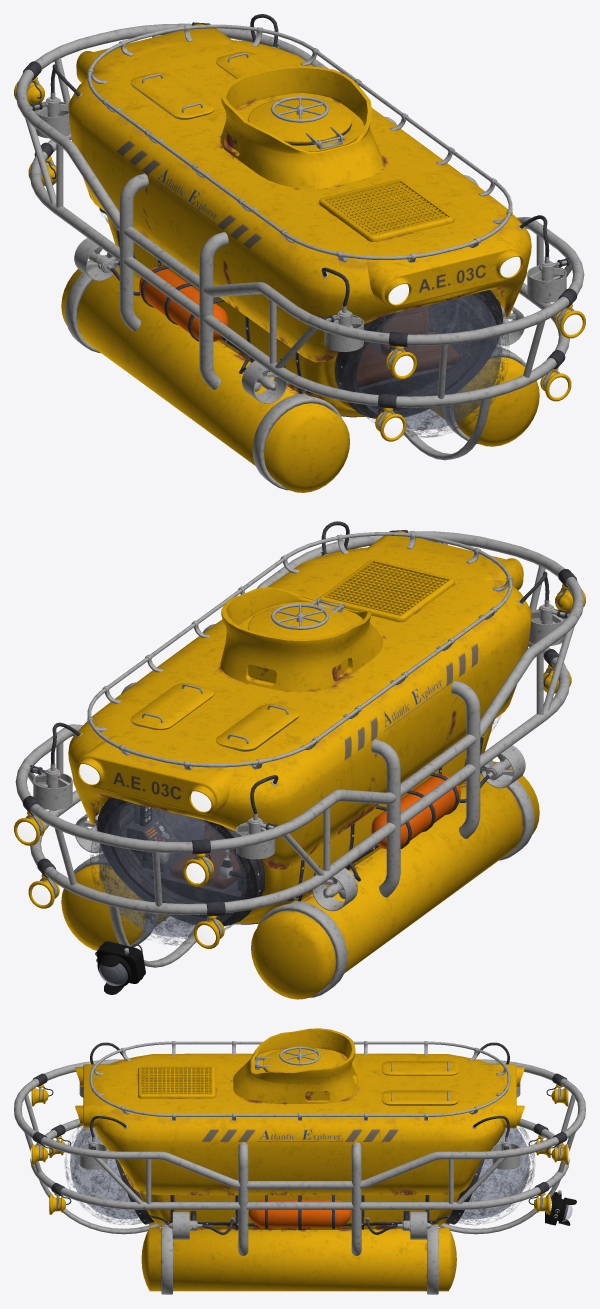
The model's file is atlantic_explorer_vr_draco.glb.
3 views of the same model, one above another, from view 1: azimuth 30°, elevation 25°; view 2: azimuth 150°, elevation 25°; view 3: azimuth 270°, elevation 25° (orthographic). The views are drawn at different scales.
Parts seen in each view (by area): view 1: Hull_Upper, Exterior_Structure, Hull_Lower, Viewport_Passenger, PressureHull_InteriorShell, Exterior_Details, Cabin_Interior, Lights_PassengerEnd, Thruster_PassengerEnd_Starboard_Vertical, Thruster_PassengerEnd_Port_Horizontal, Thruster_PilotEnd_Port_Horizontal, Thruster_PassengerEnd_Port_Vertical (+1 smaller); view 2: Hull_Upper, Exterior_Structure, Hull_Lower, Viewport_Pilot, Exterior_Details, PressureHull_InteriorShell, Cabin_Interior, Lights_PilotEnd, Thruster_PilotEnd_Starboard_Vertical, Thruster_PilotEnd_Port_Horizontal, Thruster_PassengerEnd_Port_Horizontal, Thruster_PilotEnd_Port_Vertical (+1 smaller); view 3: Hull_Upper, Hull_Lower, Exterior_Structure, Exterior_Details, Viewport_Pilot, Viewport_Passenger, PressureHull_InteriorShell, Thruster_PassengerEnd_Starboard_Horizontal, Thruster_PilotEnd_Starboard_Horizontal, Thruster_PassengerEnd_Starboard_Vertical, Thruster_PilotEnd_Starboard_Vertical.
Part boxes in pixels (<box>): Hull_Upper: <box>68,23,531,362</box>; Exterior_Structure: <box>15,22,584,490</box>; Hull_Lower: <box>61,51,539,492</box>; Viewport_Passenger: <box>346,292,509,437</box>; PressureHull_InteriorShell: <box>105,124,502,418</box>; Exterior_Details: <box>14,14,585,441</box>; Cabin_Interior: <box>356,305,459,387</box>; Lights_PassengerEnd: <box>384,256,582,437</box>; Thruster_PassengerEnd_Starboard_Vertical: <box>527,256,566,302</box>; Thruster_PassengerEnd_Port_Horizontal: <box>242,360,287,403</box>; Thruster_PilotEnd_Port_Horizontal: <box>74,238,118,280</box>; Thruster_PassengerEnd_Port_Vertical: <box>324,306,363,351</box>; Hull_Upper: <box>68,531,531,869</box>; Exterior_Structure: <box>15,530,584,997</box>; Hull_Lower: <box>61,563,539,999</box>; Viewport_Pilot: <box>90,799,253,945</box>; Exterior_Details: <box>14,521,585,994</box>; PressureHull_InteriorShell: <box>97,719,494,925</box>; Cabin_Interior: <box>126,804,243,891</box>; Lights_PilotEnd: <box>17,764,215,945</box>; Thruster_PilotEnd_Starboard_Vertical: <box>33,764,72,809</box>; Thruster_PilotEnd_Port_Horizontal: <box>312,868,357,911</box>; Thruster_PassengerEnd_Port_Horizontal: <box>481,745,525,788</box>; Thruster_PilotEnd_Port_Vertical: <box>236,813,275,859</box>; Hull_Upper: <box>75,1028,524,1195</box>; Hull_Lower: <box>139,1061,460,1291</box>; Exterior_Structure: <box>14,1041,585,1294</box>; Exterior_Details: <box>31,1041,576,1234</box>; Viewport_Pilot: <box>457,1123,535,1224</box>; Viewport_Passenger: <box>64,1123,142,1224</box>; PressureHull_InteriorShell: <box>115,1069,484,1224</box>; Thruster_PassengerEnd_Starboard_Horizontal: <box>168,1211,202,1239</box>; Thruster_PilotEnd_Starboard_Horizontal: <box>397,1211,431,1239</box>; Thruster_PassengerEnd_Starboard_Vertical: <box>79,1137,107,1169</box>; Thruster_PilotEnd_Starboard_Vertical: <box>492,1137,520,1169</box>.
Size of the model in its own units: 3.24 by 3.28 by 8.11.
8 materials, 8 textured.
